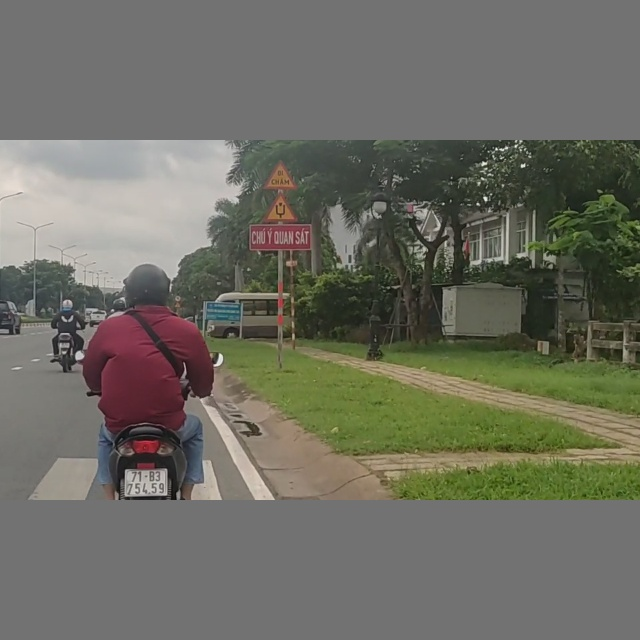W.245a: (264, 160, 297, 189)
W.246a: (263, 191, 299, 221)
